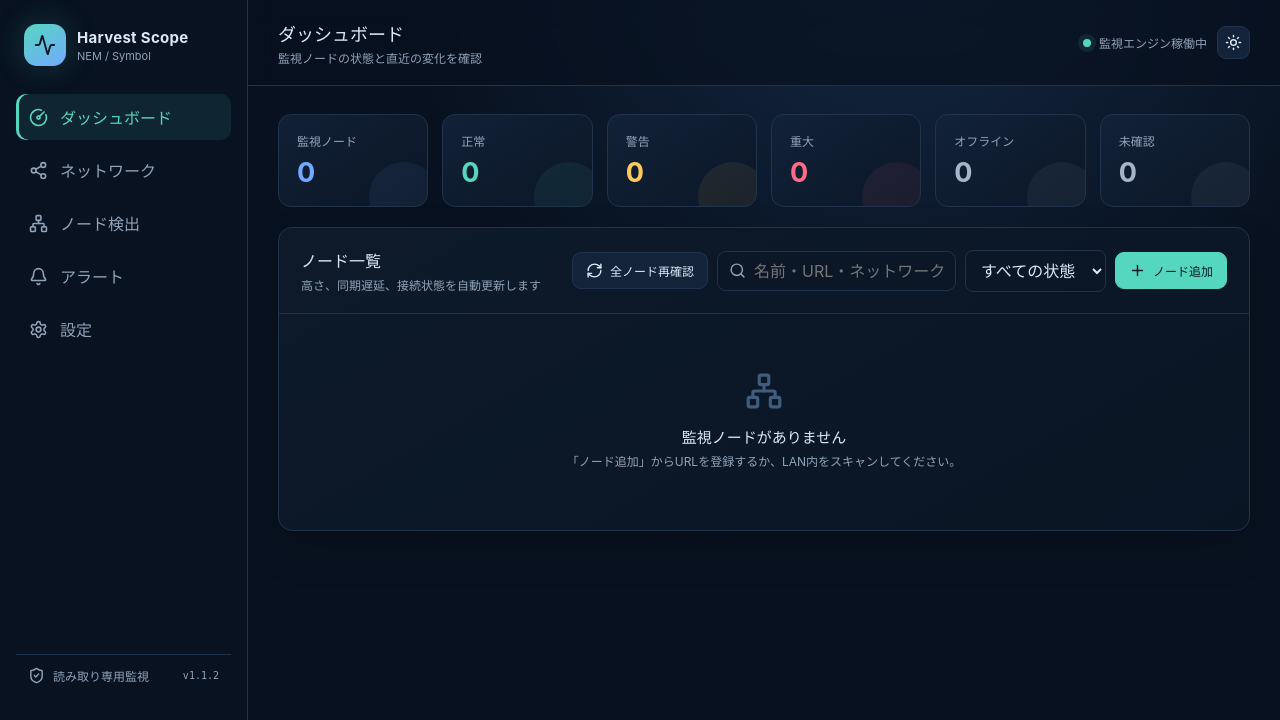
Test: 上部バーからライトテーマへ切り替える
Click the button named "ライトテーマに切り替え": click(1234, 42) x1=1217 y1=26 x2=1250 y2=59
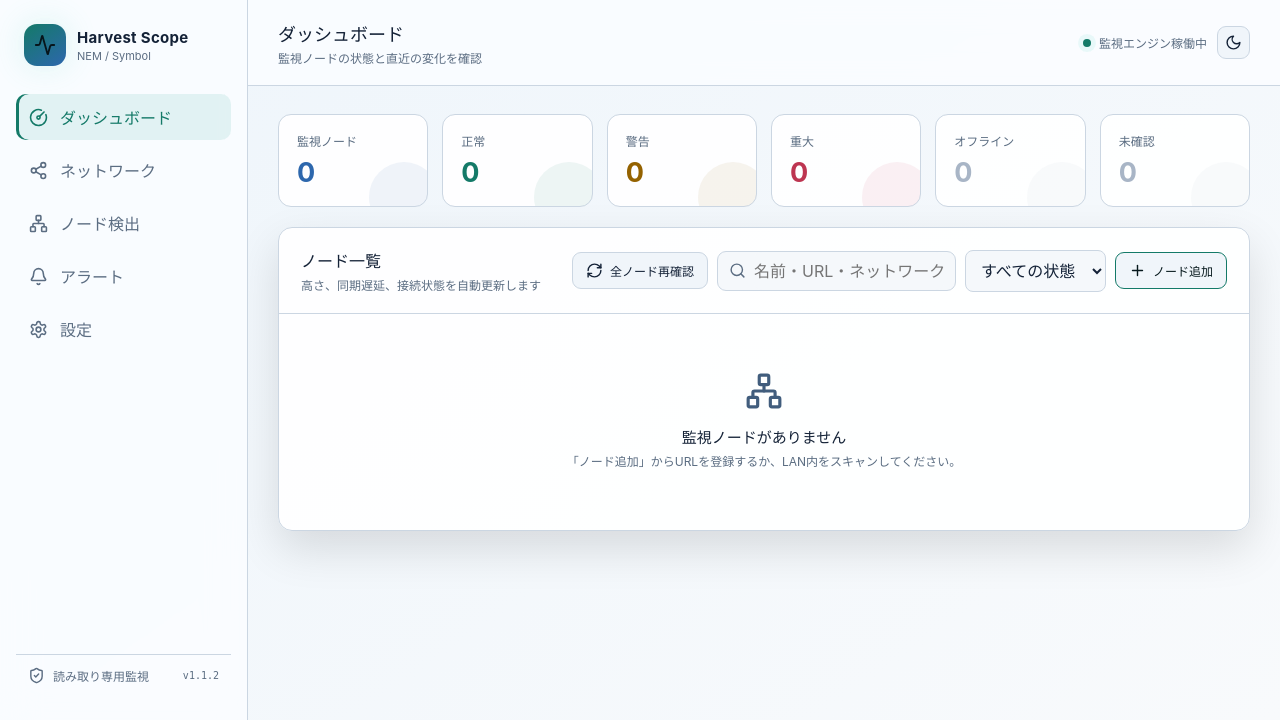
Now the button named "ダークテーマに切り替え" is shown, box x1=1217 y1=26 x2=1250 y2=59
